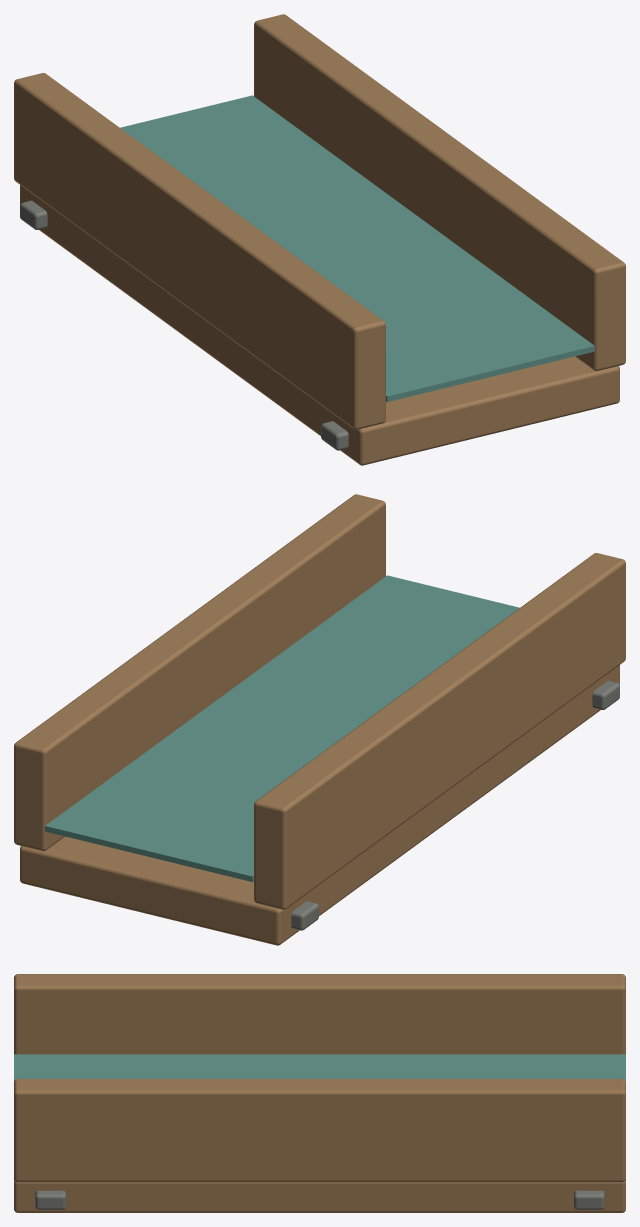
The model's file is overhead-launder-straight.glb.
3 renders of one model, top to bottom at view 1: azimuth 30°, elevation 25°; view 2: azimuth 150°, elevation 25°; view 3: azimuth 270°, elevation 25°, orthographic. The views are drawn at different scales.
Visible parts, largest first — view 1: overhead-launder-straight; view 2: overhead-launder-straight; view 3: overhead-launder-straight.
Part boxes in pixels (left/top/right/bottom): overhead-launder-straight: left=14, top=14, right=625, bottom=465; overhead-launder-straight: left=14, top=494, right=625, bottom=945; overhead-launder-straight: left=14, top=974, right=625, bottom=1212.
Bounding box in the file's own units: 0.9601 × 0.45 × 2.
